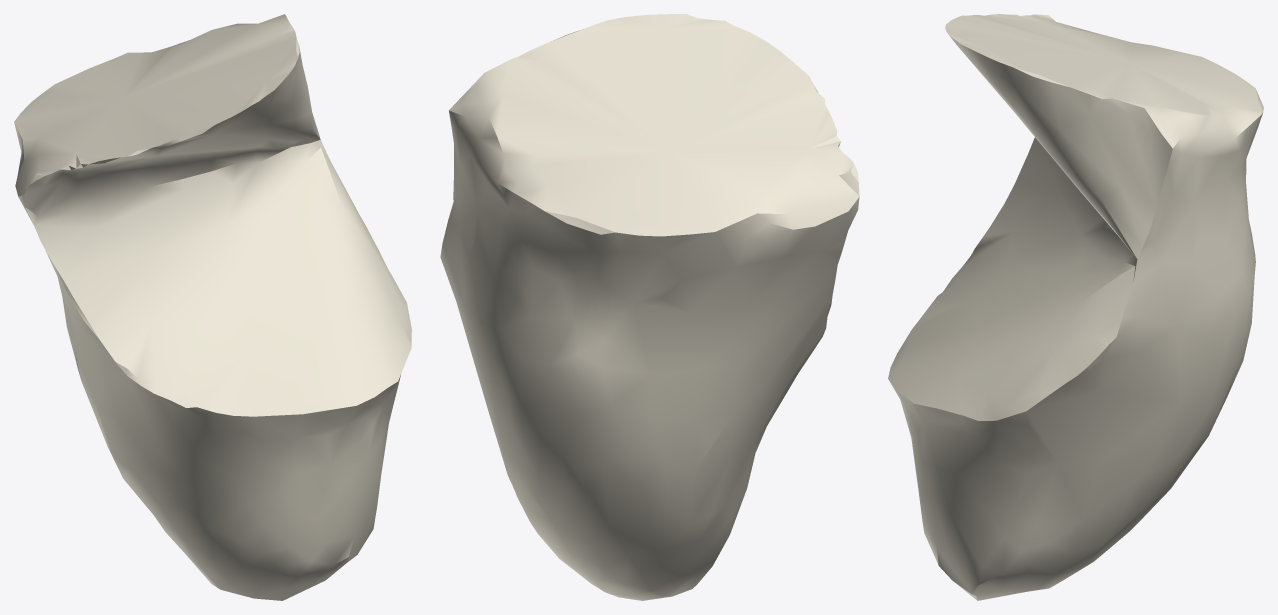
File: fma23654_mm1896m.glb
The picture shows the model from 3 angles, left to right: view 1: azimuth 30°, elevation 25°; view 2: azimuth 150°, elevation 25°; view 3: azimuth 270°, elevation 25°; orthographic projection. The views are drawn at different scales.
Parts seen in each view (by area): view 1: FMA23654_MM1896M; view 2: FMA23654_MM1896M; view 3: FMA23654_MM1896M.
Part boxes in pixels (<box>): FMA23654_MM1896M: <box>14,14,411,600</box>; FMA23654_MM1896M: <box>440,14,859,600</box>; FMA23654_MM1896M: <box>888,14,1263,600</box>.
Bounding box in the file's own units: 0.00841 × 0.0114 × 0.00717.
